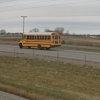Bus: (13, 29, 62, 52)
